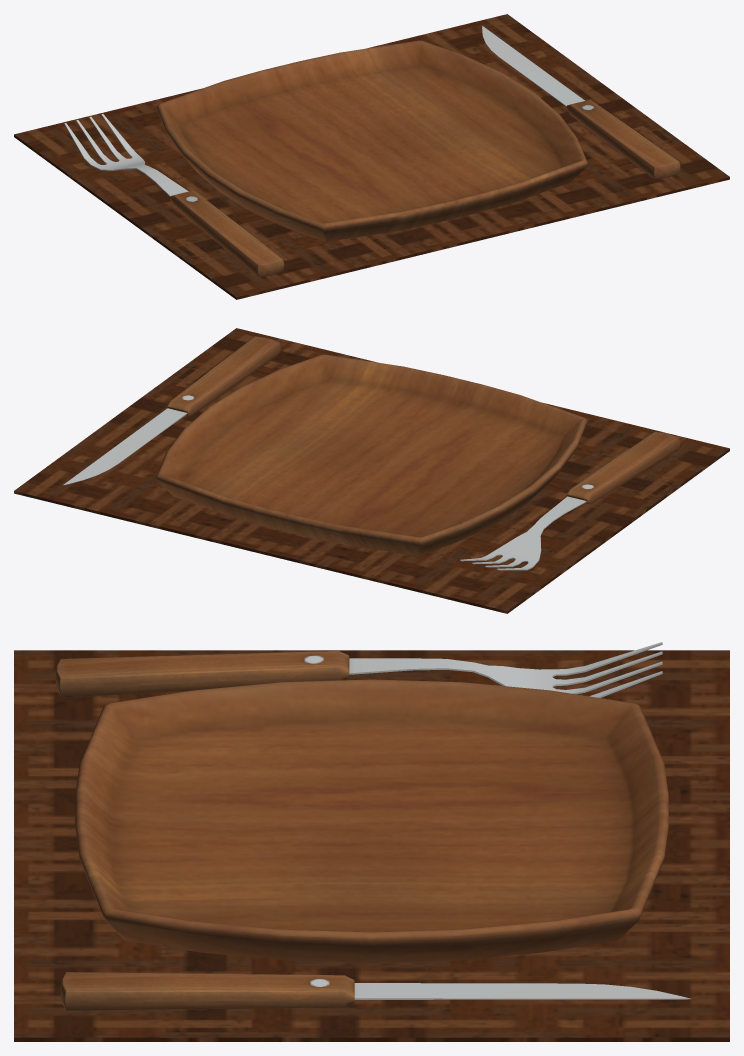
The model's file is GardenTableWear01_23.FBX.
The picture shows the model from 3 angles, top to bottom: view 1: azimuth 30°, elevation 25°; view 2: azimuth 150°, elevation 25°; view 3: azimuth 270°, elevation 25°; orthographic projection. The views are drawn at different scales.
Parts seen in each view (by area): view 1: GardenTableWear01_23; view 2: GardenTableWear01_23; view 3: GardenTableWear01_23.
Part boxes in pixels (box(x1,y1,x2,y2)): GardenTableWear01_23: box(14, 14, 729, 299); GardenTableWear01_23: box(14, 328, 729, 613); GardenTableWear01_23: box(14, 642, 729, 1041).
Size of what is drawn, in the model's own units: 0.439 by 0.0223 by 0.3429.
